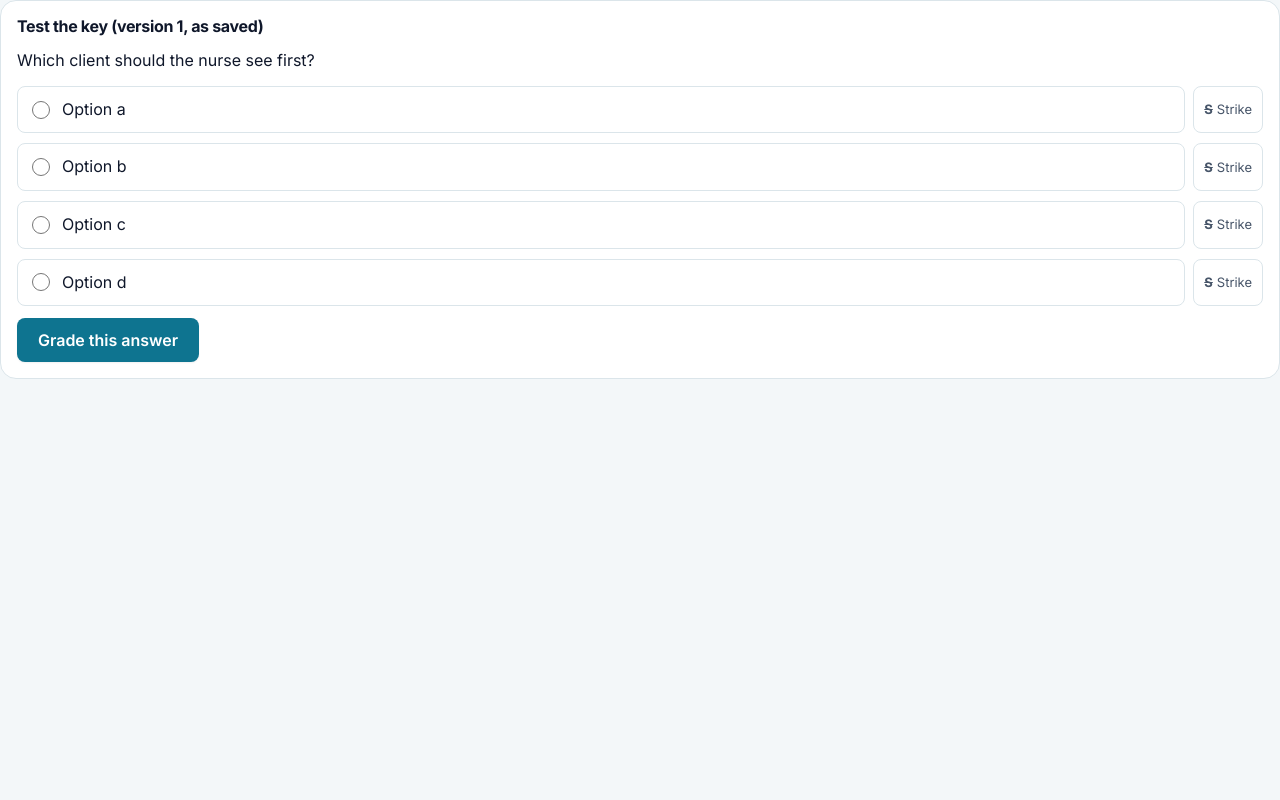
Test: TestKeyPanel › grades a sample answer with the real grader and shows the rationale
The width and height of the screenshot is (1280, 800).
Click the radio button labelled "Option b" at {"x": 41, "y": 167}, box [32, 158, 50, 176]
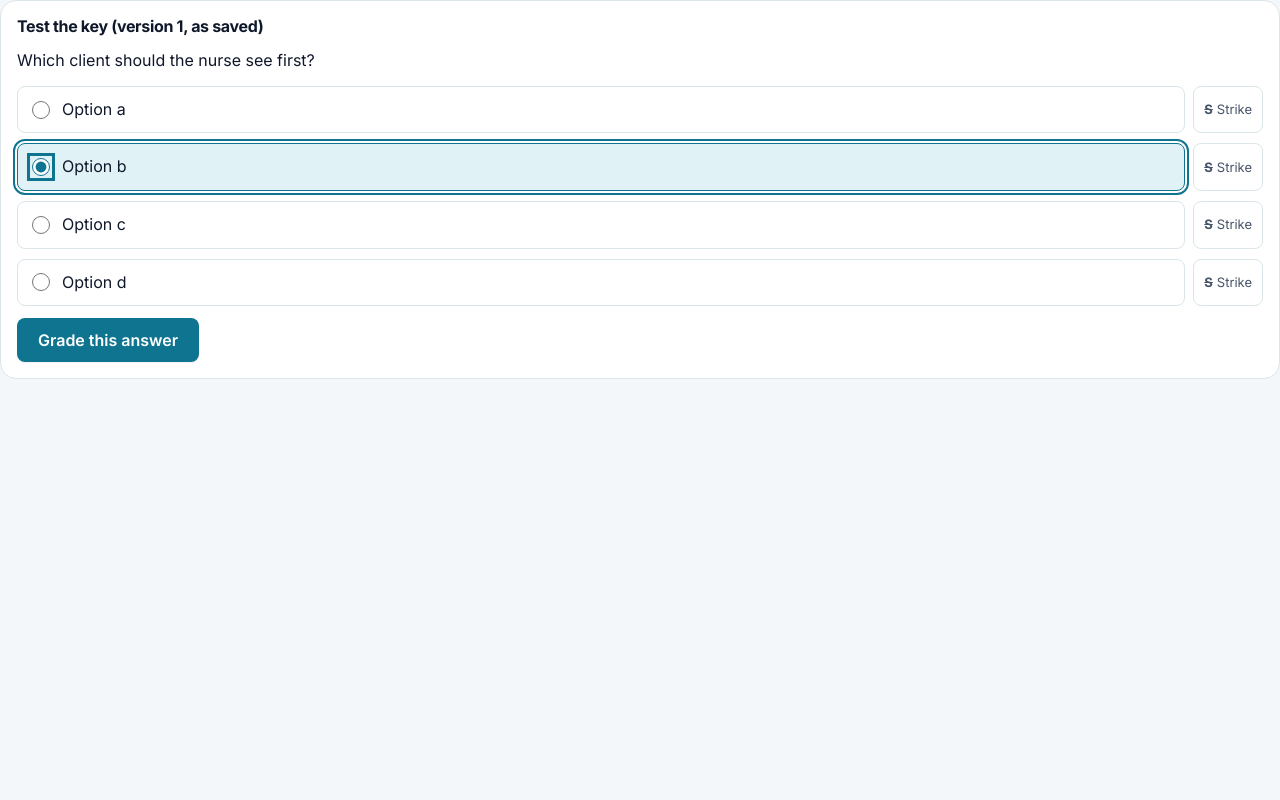
Click the button "Grade this answer" at {"x": 108, "y": 340}, box [17, 318, 199, 362]
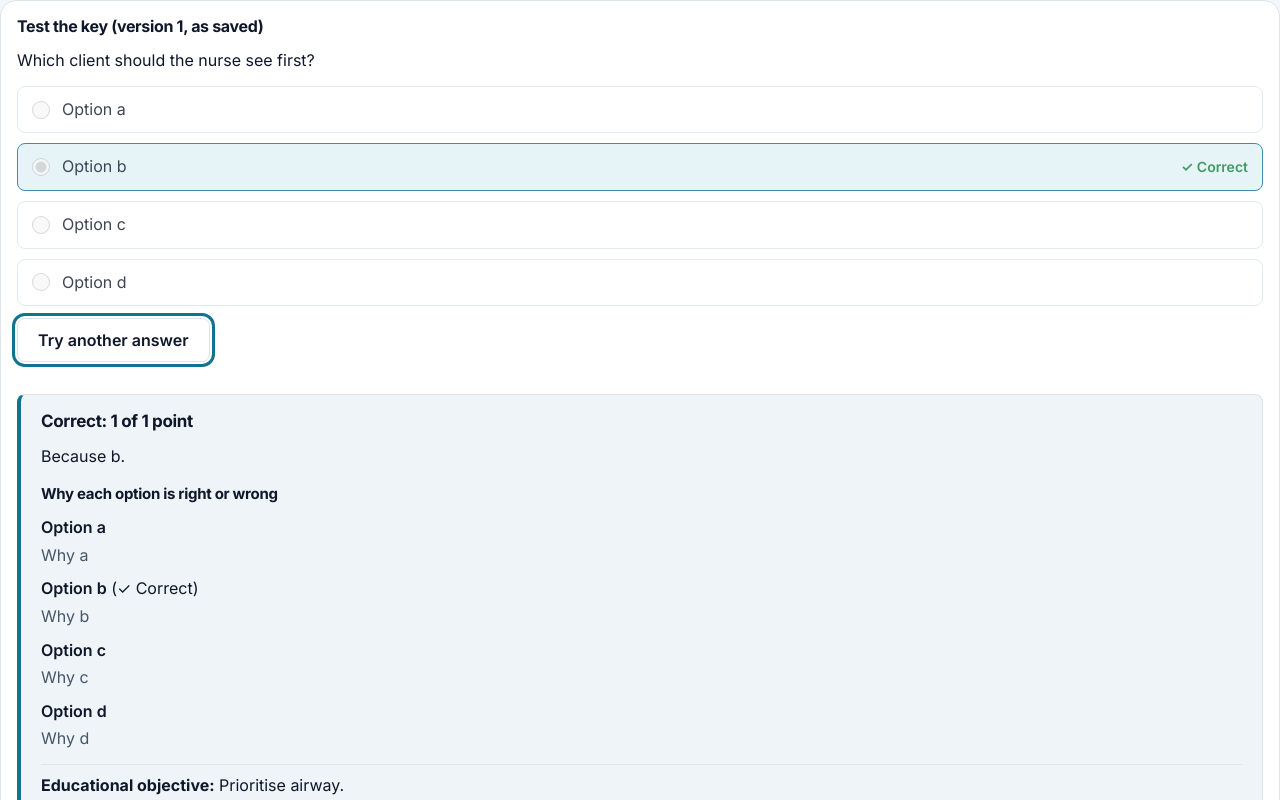
expect the heading "Correct: 1 of 1 point" is shown: met, box [41, 411, 193, 431]
expect the text "Why c" is shown: met, box [41, 667, 89, 687]
Click the button "Try another answer" at {"x": 113, "y": 340}, box [17, 318, 210, 362]
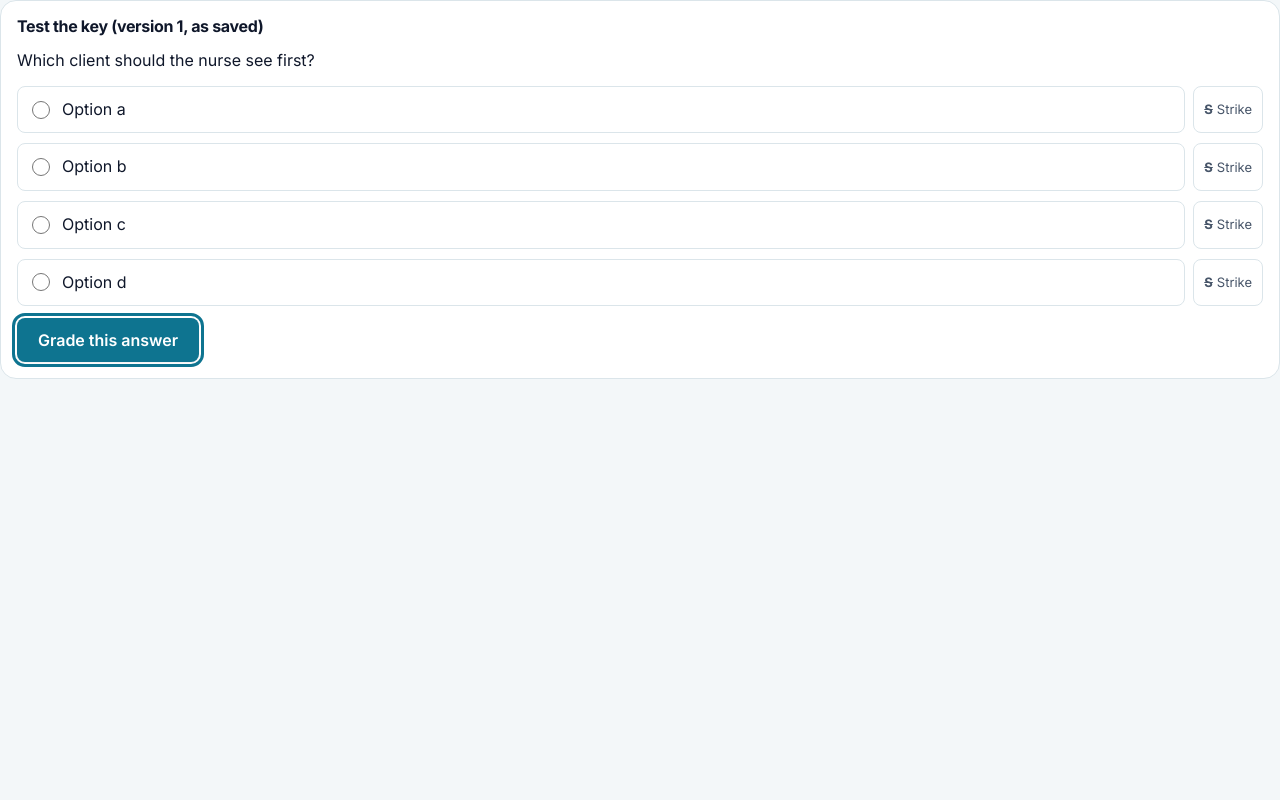
expect the button "Grade this answer" is shown: met, box [17, 318, 199, 362]
